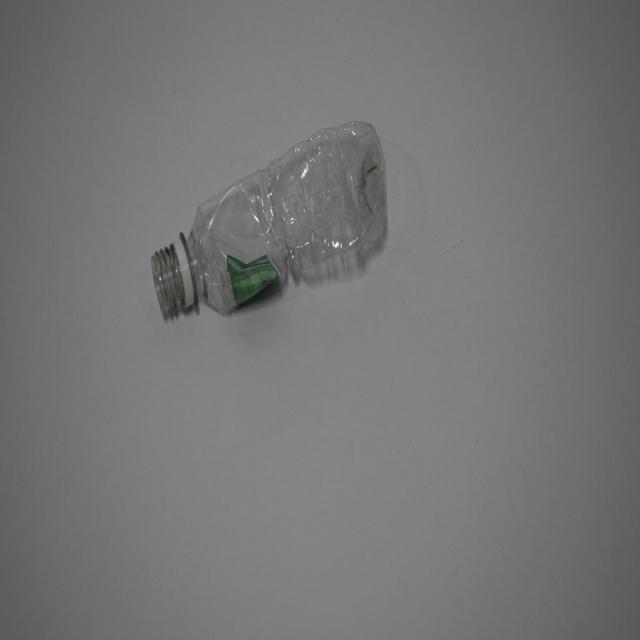plastic: (147, 113, 392, 330)
